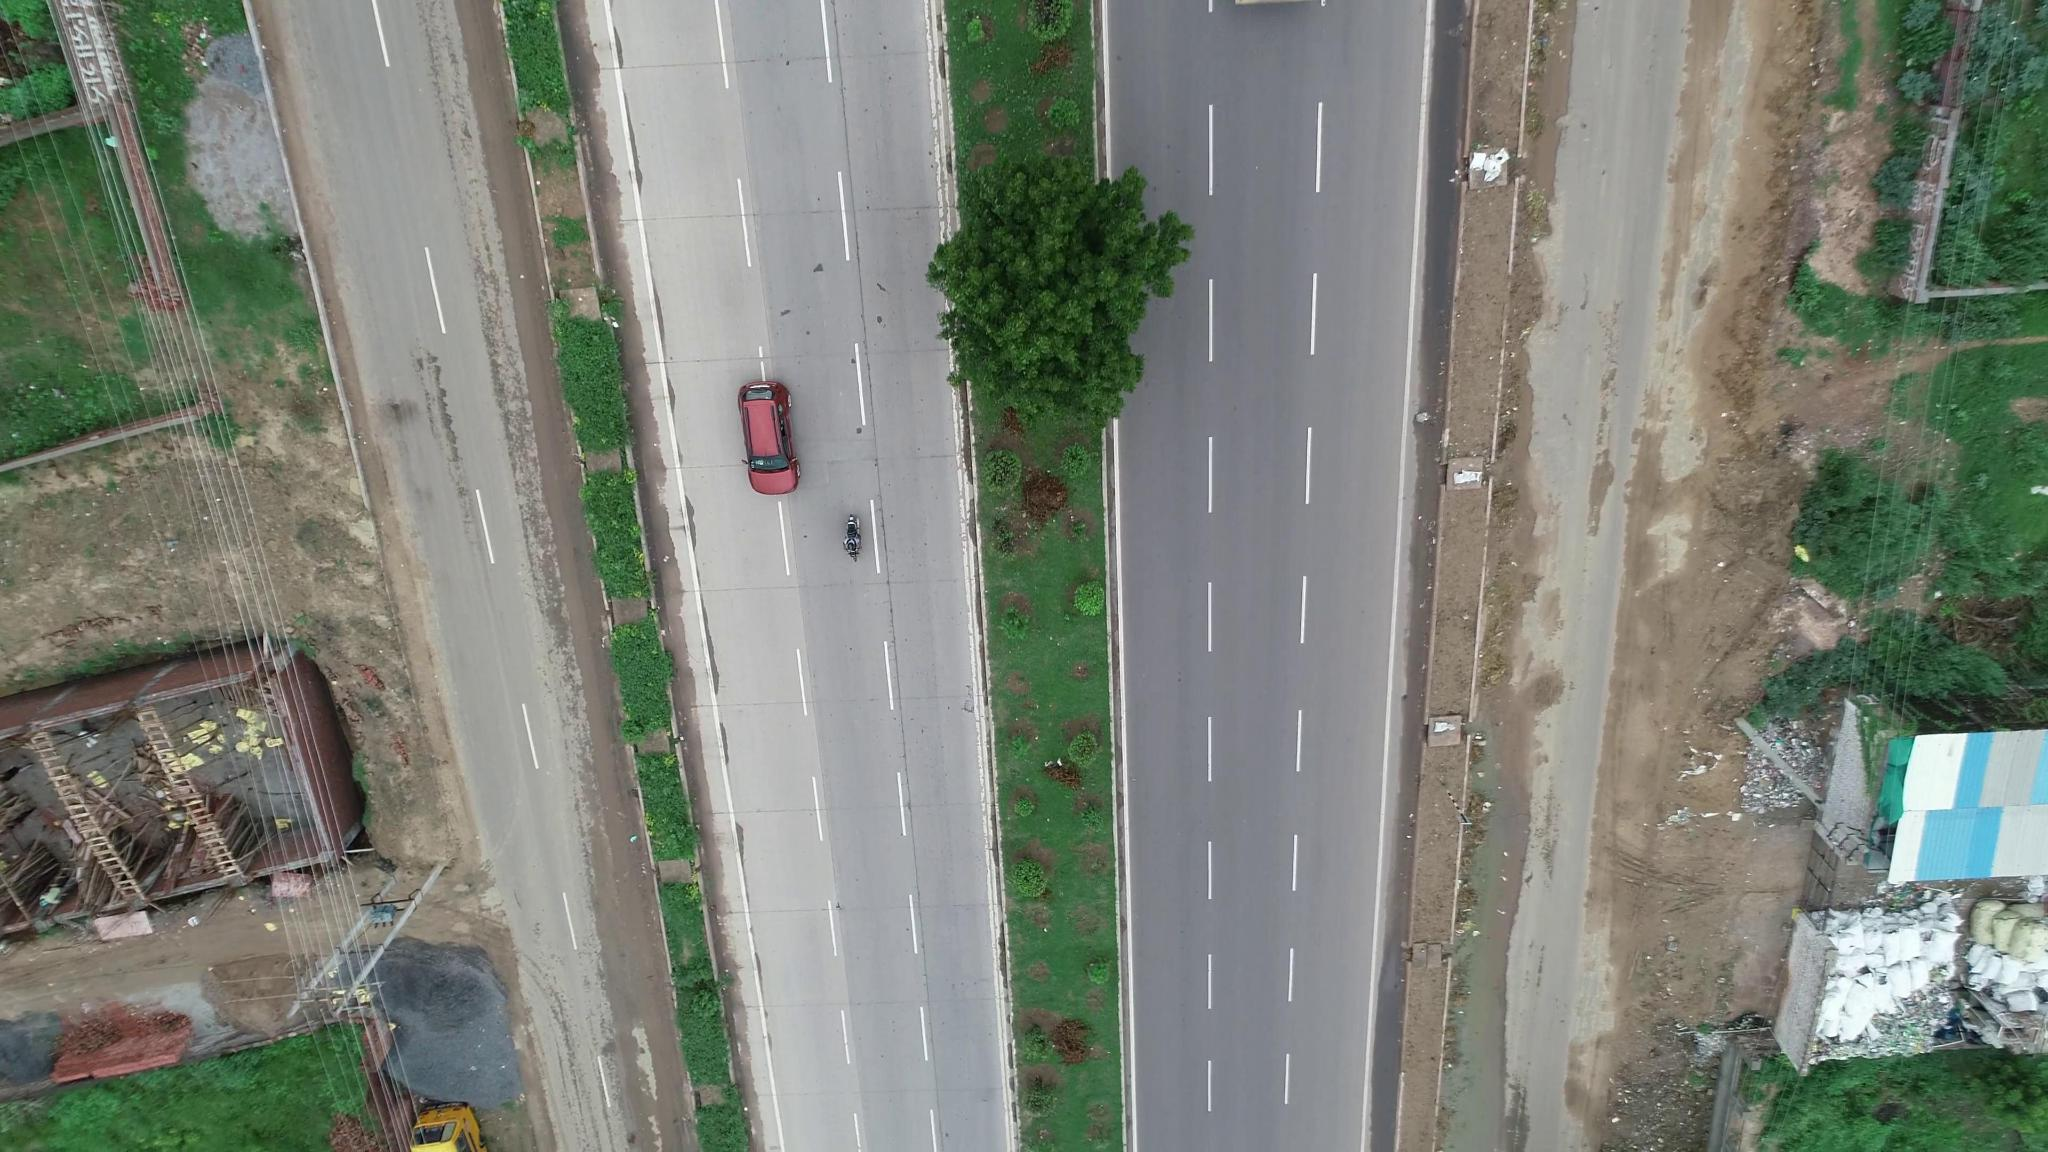Muddy_road: (1584, 512, 1689, 919)
